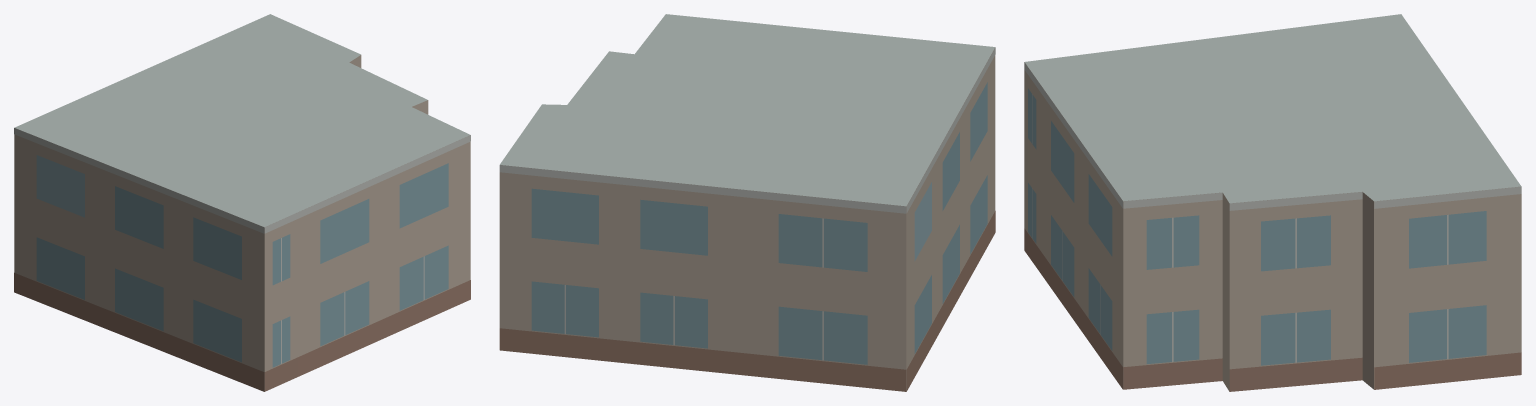
File: survey-upis-32623675.glb
3 views of the same model, side by side, from view 1: azimuth 30°, elevation 25°; view 2: azimuth 150°, elevation 25°; view 3: azimuth 270°, elevation 25° (orthographic). The views are drawn at different scales.
Parts seen in each view (by area): view 1: survey-upis-32623675.tmp; view 2: survey-upis-32623675.tmp; view 3: survey-upis-32623675.tmp.
Boxes of the visible parts, x1,y1,x2,y2 form: survey-upis-32623675.tmp: (14, 14, 470, 391); survey-upis-32623675.tmp: (499, 14, 995, 391); survey-upis-32623675.tmp: (1024, 14, 1521, 391).
Size of the model in its own units: 13.15 by 6.1 by 14.59.
